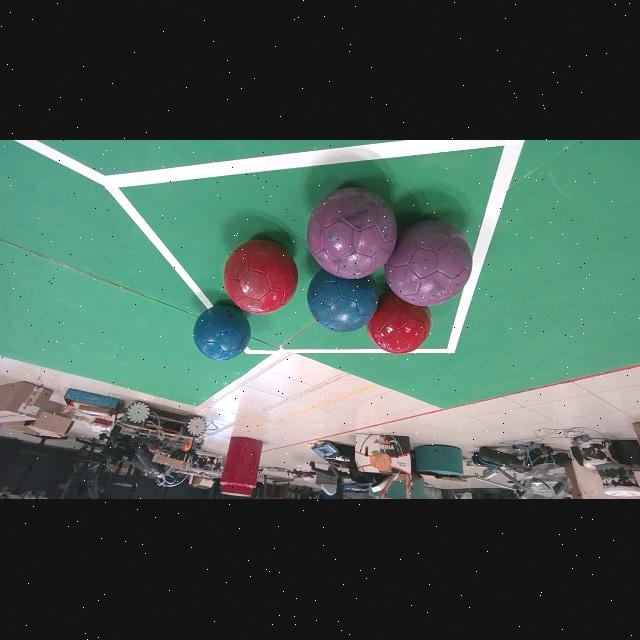B: (307, 270, 378, 333), (193, 305, 251, 362)
P: (307, 188, 396, 279), (385, 222, 473, 307)
R: (223, 241, 298, 315), (366, 292, 432, 356)
